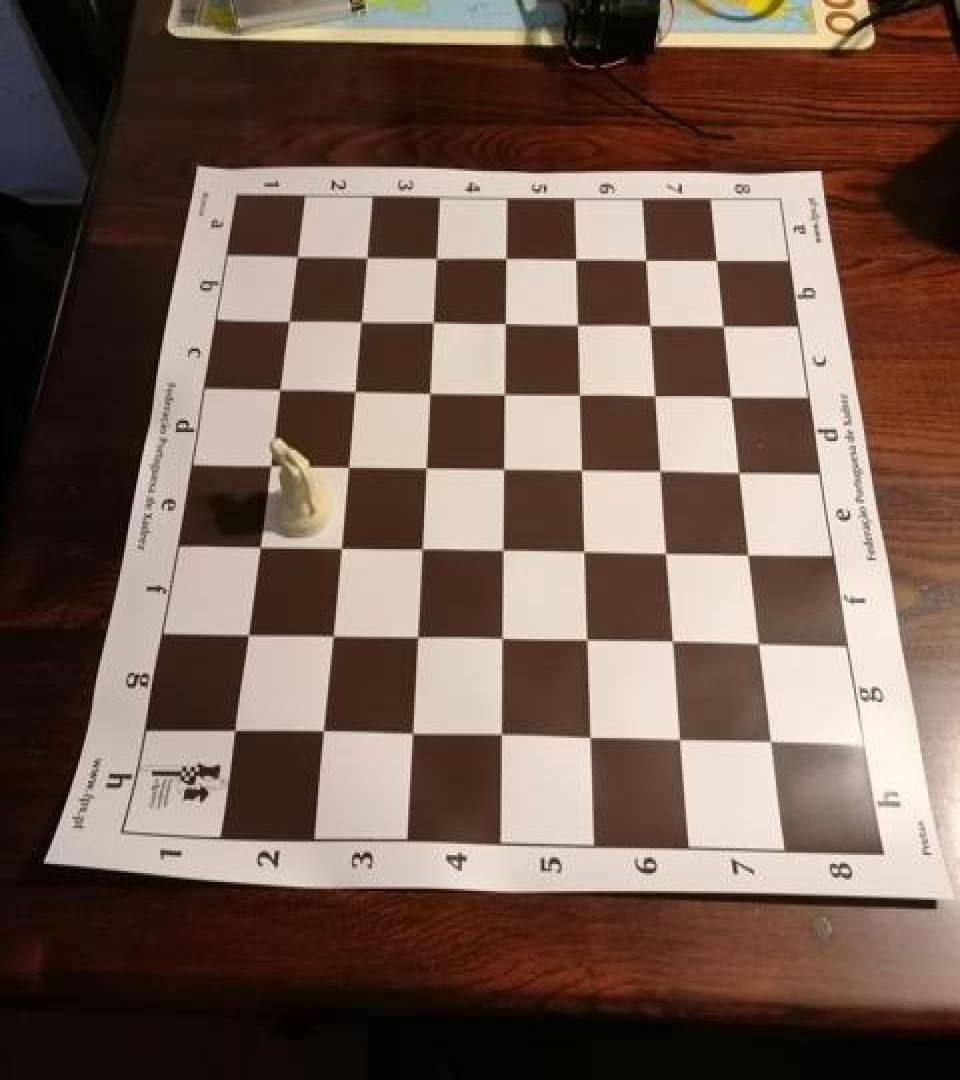xcorner: (743, 625, 775, 662), (395, 616, 427, 653), (701, 244, 733, 280), (630, 243, 662, 279), (559, 242, 591, 278), (489, 242, 521, 278), (419, 241, 451, 277), (349, 240, 381, 276), (279, 240, 311, 276), (708, 308, 740, 344), (634, 307, 666, 343), (561, 306, 593, 342), (487, 305, 519, 341), (415, 305, 447, 341), (342, 304, 374, 340), (270, 302, 302, 338), (716, 378, 748, 414), (639, 377, 671, 413), (562, 376, 594, 412), (486, 374, 518, 410), (410, 374, 442, 410), (335, 371, 367, 407), (260, 370, 292, 406), (724, 454, 756, 490), (644, 452, 676, 488), (564, 450, 596, 486), (485, 449, 517, 485), (406, 448, 438, 484), (249, 444, 281, 480), (733, 536, 765, 572), (649, 533, 681, 569), (566, 532, 598, 568), (483, 530, 515, 566), (401, 528, 433, 564), (319, 526, 351, 562), (238, 524, 270, 560), (655, 623, 687, 659), (568, 621, 600, 657), (481, 619, 513, 655), (310, 614, 342, 650), (225, 612, 257, 648), (754, 724, 786, 760), (662, 721, 694, 757), (570, 719, 602, 755), (479, 716, 511, 752), (389, 713, 421, 749), (300, 710, 332, 746), (211, 708, 243, 744), (327, 446, 359, 481)
